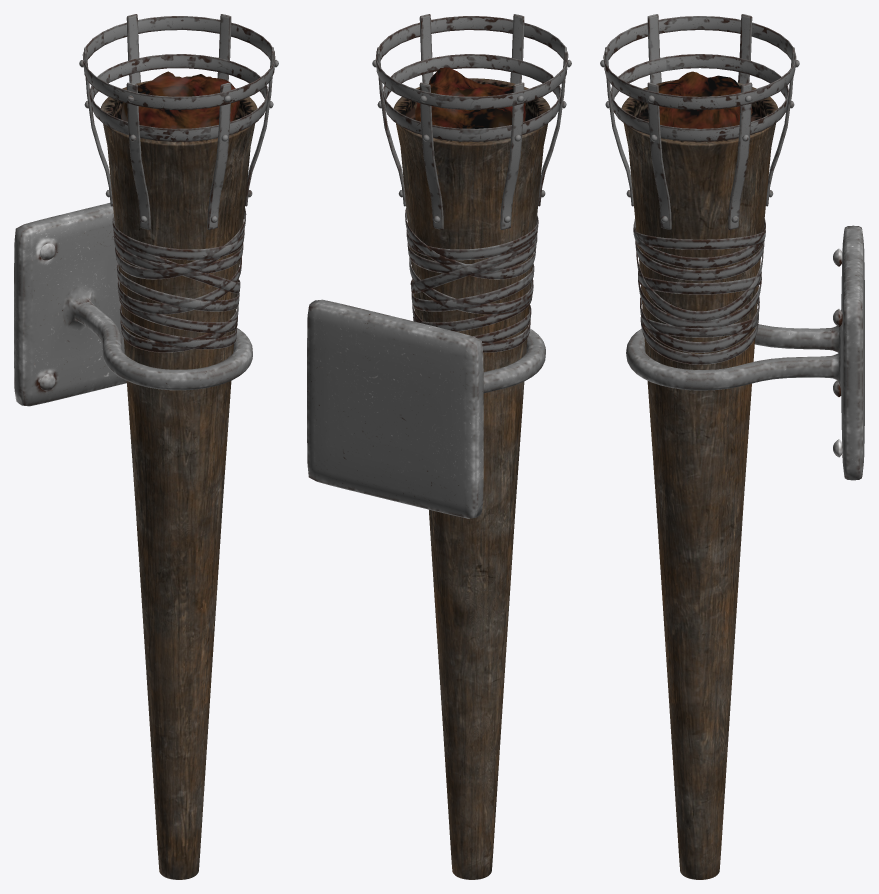
The model's file is old_torch_with_wall_mounting.glb.
3 renders of one model, left to right at view 1: azimuth 30°, elevation 25°; view 2: azimuth 150°, elevation 25°; view 3: azimuth 270°, elevation 25°, orthographic.
Parts seen in each view (by area): view 1: Torch, Metal Cage, Metal Plate, Fire Wood; view 2: Torch, Metal Plate, Metal Cage, Fire Wood; view 3: Torch, Metal Cage, Metal Plate, Fire Wood.
Part boxes in pixels (left/top/right/bottom): Torch: left=100, top=80, right=257, bottom=879; Metal Cage: left=79, top=14, right=278, bottom=352; Metal Plate: left=14, top=203, right=252, bottom=406; Fire Wood: left=121, top=71, right=239, bottom=128; Torch: left=393, top=78, right=550, bottom=879; Metal Plate: left=307, top=299, right=545, bottom=518; Metal Cage: left=372, top=14, right=571, bottom=352; Fire Wood: left=415, top=67, right=525, bottom=128; Torch: left=621, top=79, right=778, bottom=879; Metal Cage: left=600, top=14, right=799, bottom=364; Metal Plate: left=626, top=225, right=864, bottom=480; Fire Wood: left=648, top=71, right=752, bottom=128.
Bounding box in the file's own units: 0.1488 × 0.6813 × 0.1987.
Materials: 4 (4 with a texture image).
